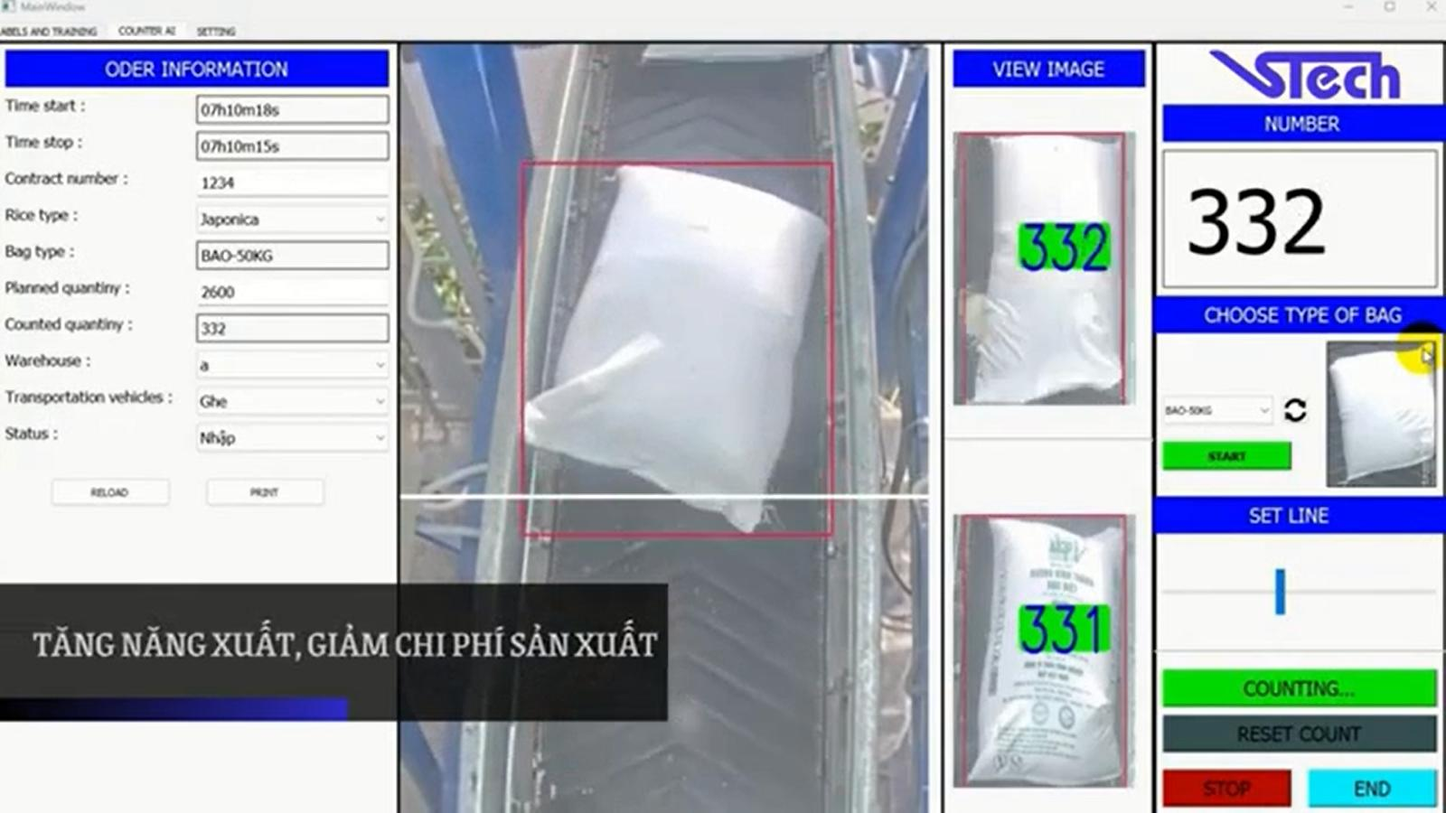rice-bag: (524, 164, 825, 530), (966, 135, 1122, 404), (970, 520, 1122, 786)
